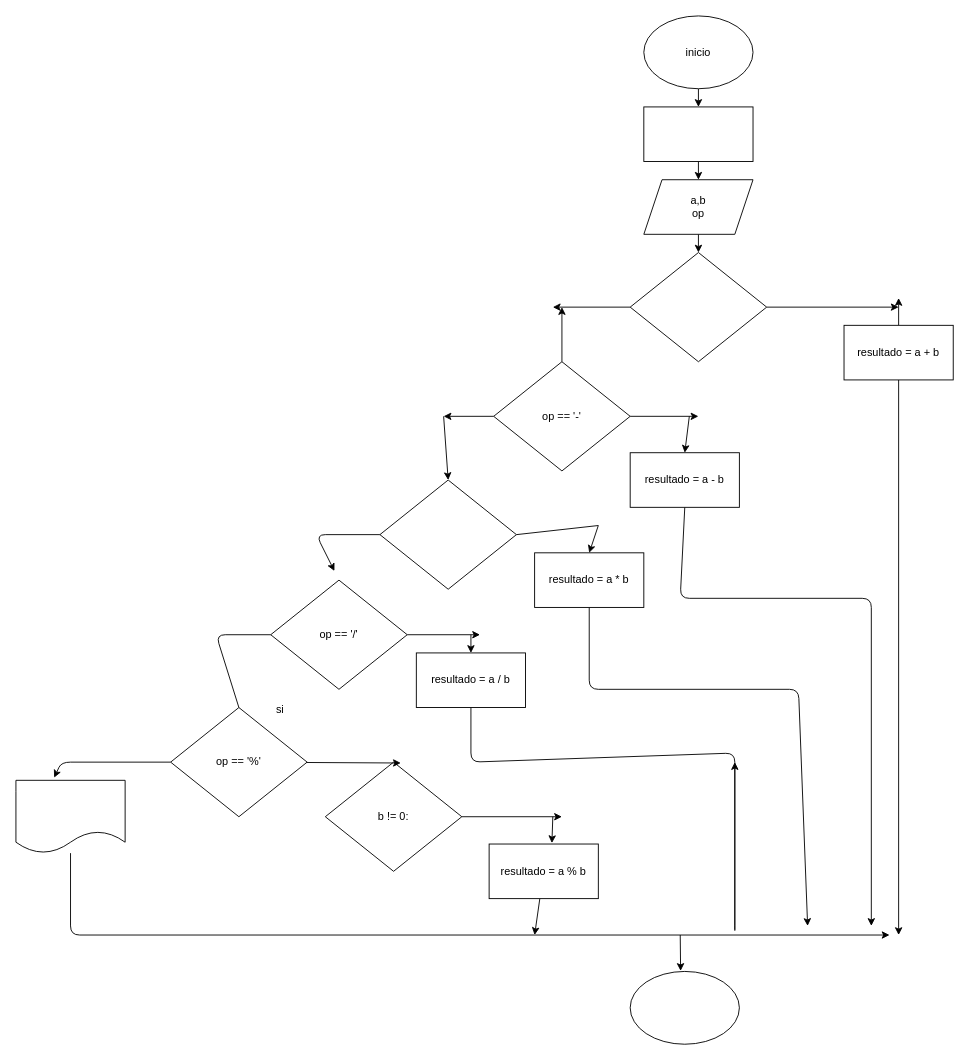
The diagram is 969 pixels wide and 1060 high, and some of its shapes have lost their labels. The shapes that lost their labels are listed below. From the top down, each one's centre as x and y in pixels, then its label:
At point 698,134: "float a,b char op".
At point 698,307: "op == '+'".
At point 447,534: "op == '*'".
At point 70,816: "operador no valido".
At point 684,1007: "FIN".
